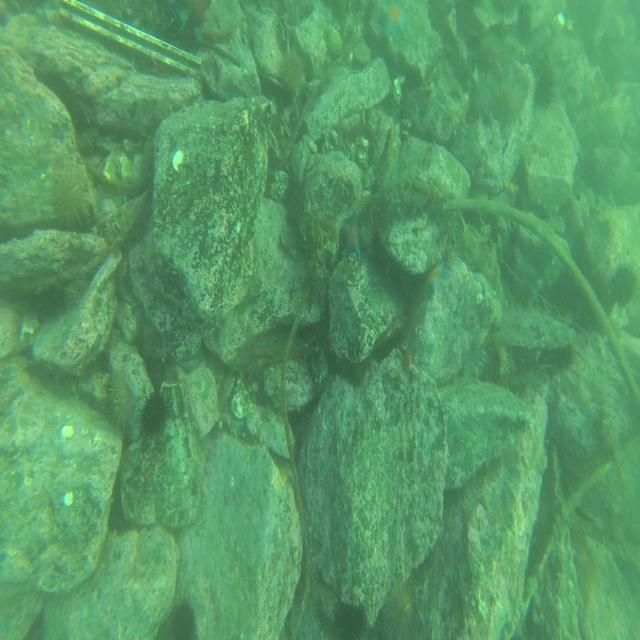echinus: (52, 165, 90, 231), (380, 577, 419, 640), (138, 380, 175, 444), (106, 369, 136, 438), (329, 597, 368, 640), (166, 594, 199, 640), (279, 48, 307, 101), (611, 261, 639, 310), (477, 29, 500, 72), (498, 86, 520, 125), (554, 340, 578, 374), (534, 73, 554, 111)
starfish: (378, 0, 411, 43), (422, 257, 450, 302), (176, 0, 206, 38), (340, 211, 364, 257), (473, 267, 492, 300)
